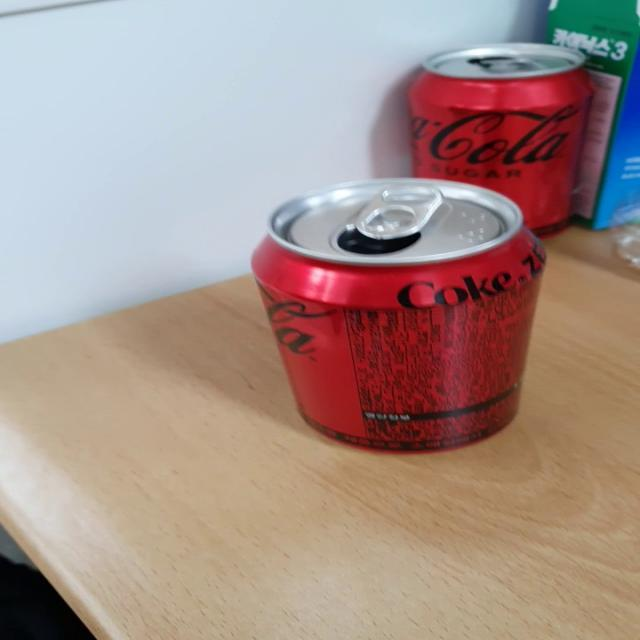coca-cola: (234, 172, 554, 464), (397, 38, 617, 238)
